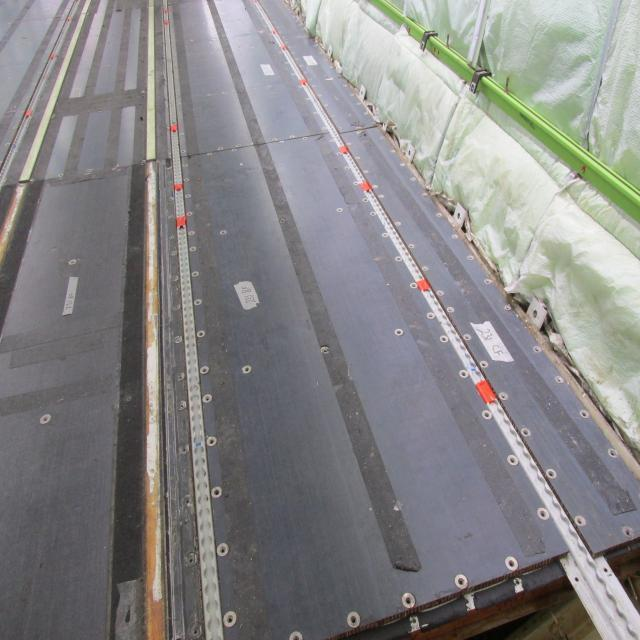Missing Fastener: (344, 606, 364, 630), (503, 551, 521, 573), (286, 624, 310, 640), (400, 586, 416, 610), (220, 608, 238, 628), (183, 550, 201, 568), (605, 444, 621, 464), (454, 572, 471, 590), (577, 406, 593, 422), (478, 405, 494, 421), (505, 452, 521, 468), (188, 622, 204, 638), (214, 542, 230, 558), (537, 507, 551, 525), (532, 340, 544, 360), (457, 366, 471, 382), (622, 522, 634, 538), (519, 422, 531, 438), (496, 386, 508, 402), (498, 302, 514, 314), (182, 492, 194, 508), (545, 467, 557, 481), (210, 486, 224, 498), (318, 342, 330, 356), (575, 514, 587, 526), (554, 374, 566, 386), (462, 332, 474, 344), (408, 280, 420, 292), (206, 435, 218, 447), (178, 443, 190, 455), (202, 393, 214, 405), (242, 363, 254, 375), (173, 334, 185, 346), (278, 214, 290, 226), (174, 371, 188, 381), (478, 358, 490, 369), (427, 310, 438, 322), (196, 328, 208, 339), (438, 334, 450, 344), (176, 400, 188, 410), (200, 364, 212, 374), (172, 302, 184, 312), (192, 297, 204, 307), (604, 562, 612, 576), (571, 570, 579, 582), (394, 328, 406, 336), (378, 193, 388, 201), (191, 270, 201, 278), (169, 248, 177, 258), (438, 288, 447, 296), (408, 242, 417, 250), (419, 191, 428, 199), (369, 209, 378, 217), (184, 192, 192, 200), (182, 162, 190, 170), (166, 178, 174, 186), (167, 194, 175, 202), (484, 278, 492, 286), (446, 305, 454, 313), (421, 264, 429, 272), (451, 232, 459, 240), (394, 220, 402, 228), (399, 160, 407, 168), (206, 150, 214, 158), (302, 134, 310, 142), (352, 178, 360, 186), (362, 196, 370, 204), (396, 254, 404, 262), (170, 274, 178, 282), (218, 228, 226, 236), (336, 206, 344, 214), (168, 233, 176, 241), (168, 212, 176, 220), (189, 245, 197, 253), (188, 230, 196, 238), (186, 209, 194, 217), (466, 254, 474, 260), (436, 212, 444, 218), (410, 176, 418, 182), (370, 183, 378, 189), (389, 148, 397, 154), (363, 168, 371, 174), (346, 141, 354, 147), (278, 139, 286, 145), (329, 136, 335, 144), (184, 177, 190, 183), (354, 156, 362, 160), (344, 166, 352, 170), (382, 234, 390, 238), (166, 164, 172, 168), (380, 136, 386, 140), (357, 130, 363, 134), (231, 148, 237, 152), (336, 152, 342, 156)
